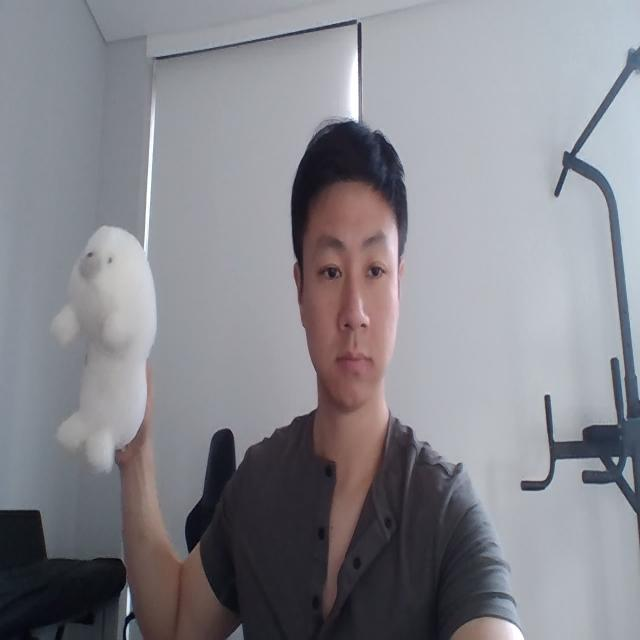seal_bb: (52, 223, 157, 476)
